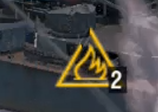2fire: (50, 60, 130, 92)
